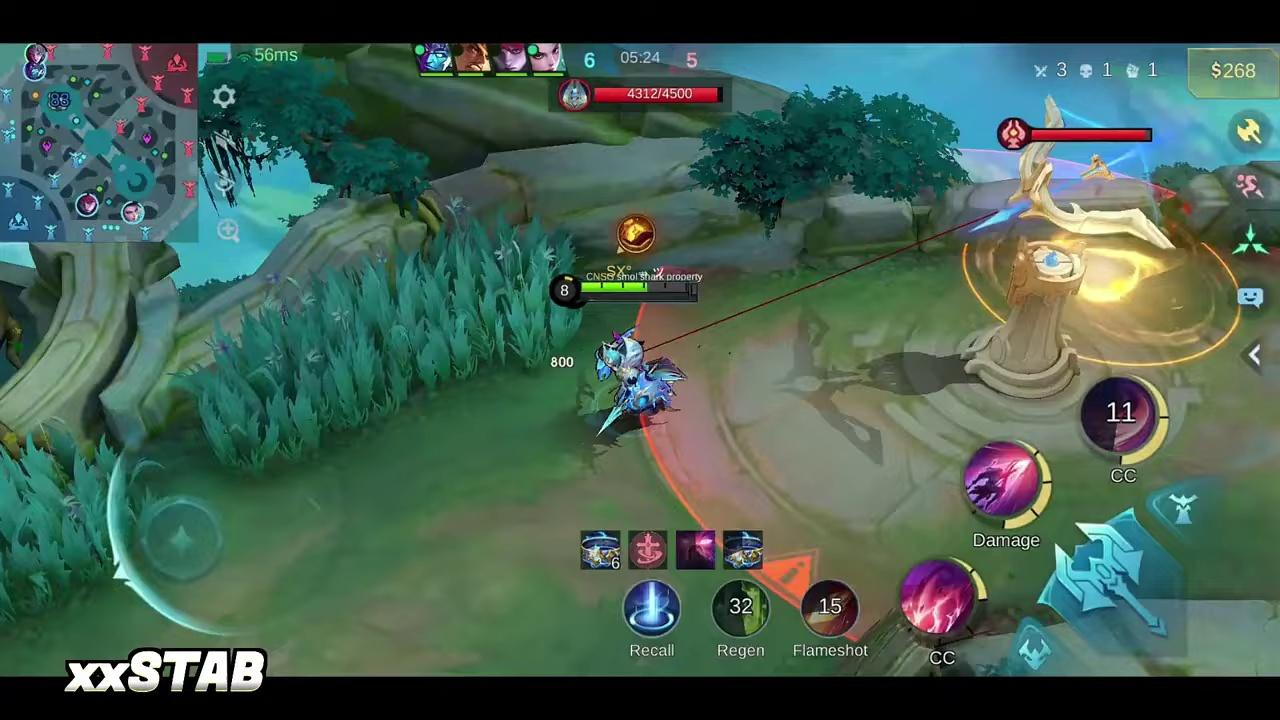Adc_Aliado: (120, 200, 146, 226)
Arbusto: (187, 219, 575, 467), (0, 434, 138, 624)
Exp_Aliado: (22, 42, 49, 59)
Gattotkaka: (581, 331, 685, 435)
HP_Heroe_Principal: (583, 281, 697, 292)
Jungla_Aliado: (71, 194, 99, 219)
Mid_Aliado: (26, 58, 49, 79)
Minimapa: (0, 48, 191, 246)
Skill1: (897, 562, 978, 638)
Skill2: (961, 440, 1047, 528)
Torre_Enemiga: (959, 106, 1177, 391)
